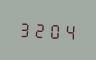four: (60, 20, 73, 41)
three: (18, 18, 31, 39)
two: (32, 19, 45, 39)
zero: (46, 19, 59, 40)
